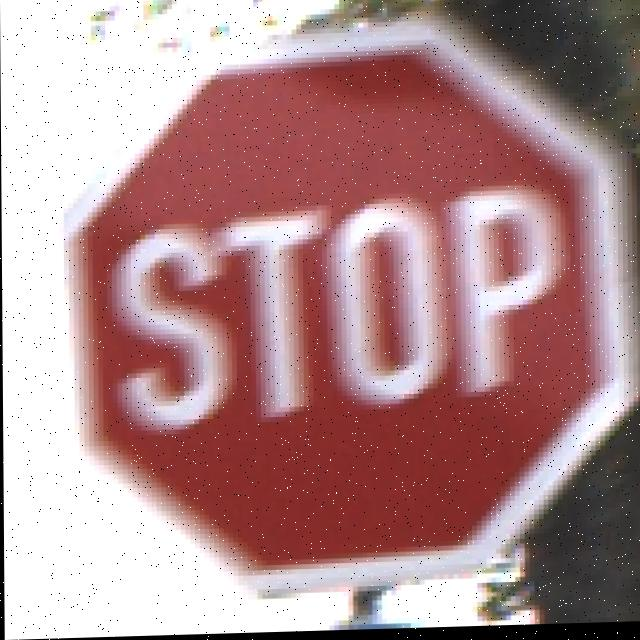stop: (62, 29, 640, 590)
